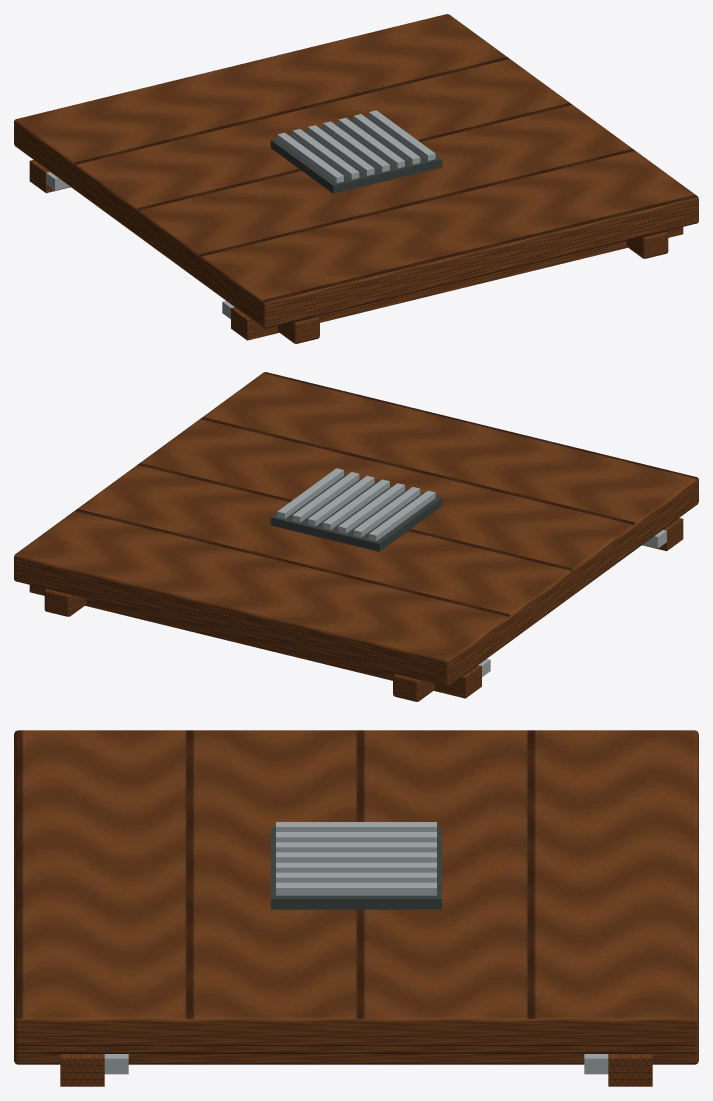
The model's file is modular-survival-base-builder-floor-drain-bay-reinforc-b732efd0__24284.glb.
3 views of the same model, one above another, from view 1: azimuth 30°, elevation 25°; view 2: azimuth 150°, elevation 25°; view 3: azimuth 270°, elevation 25° (orthographic). The views are drawn at different scales.
Parts seen in each view (by area): view 1: floor-drain-bay-reinforced; view 2: floor-drain-bay-reinforced; view 3: floor-drain-bay-reinforced.
Part boxes in pixels (<box>): floor-drain-bay-reinforced: <box>14,14,698,343</box>; floor-drain-bay-reinforced: <box>14,372,698,701</box>; floor-drain-bay-reinforced: <box>14,730,698,1086</box>.
Size of the model in its own units: 2 by 0.28 by 2.
Materials: 3 (1 with a texture image).
